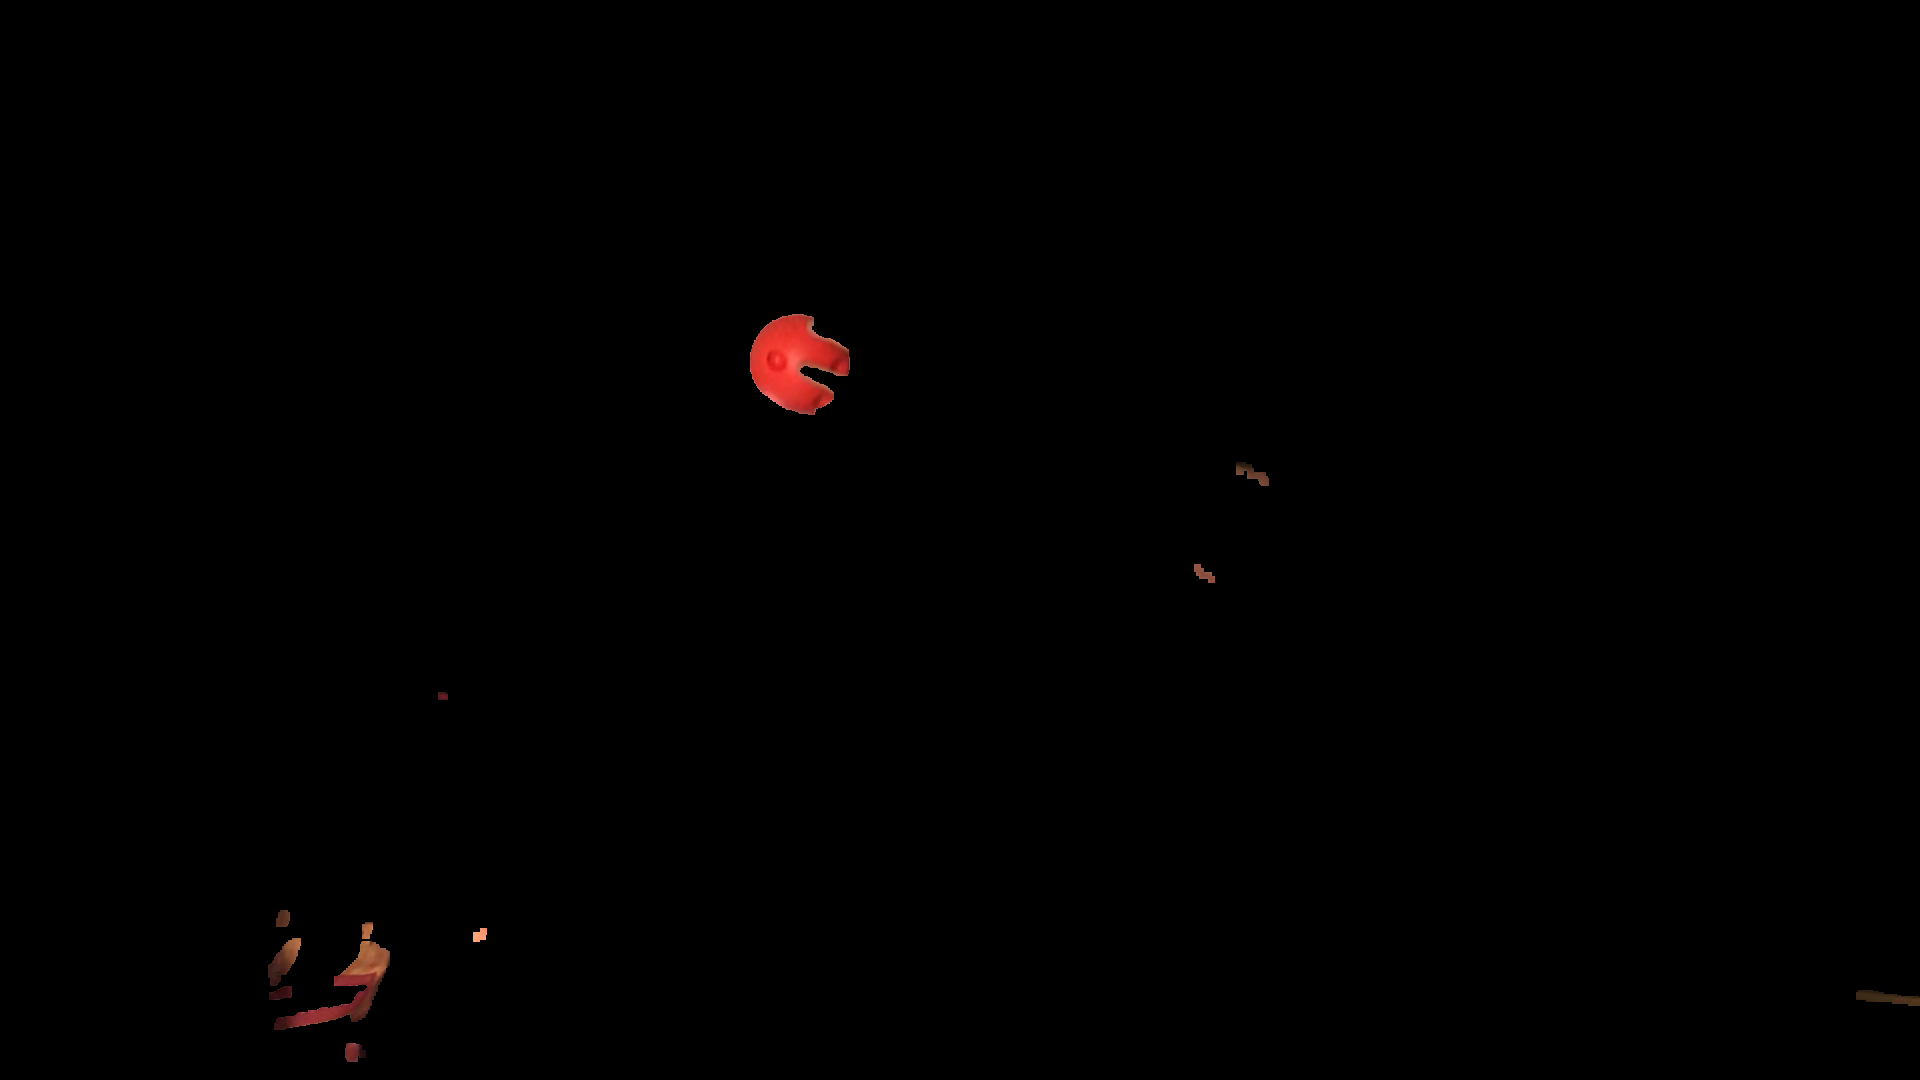Ball: (748, 313, 844, 411)
